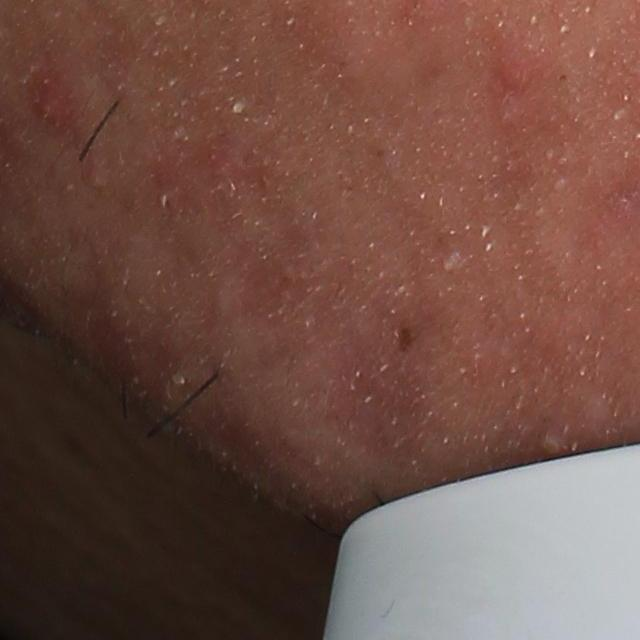comedo: (397, 323, 416, 357)
papule: (27, 73, 71, 137)
